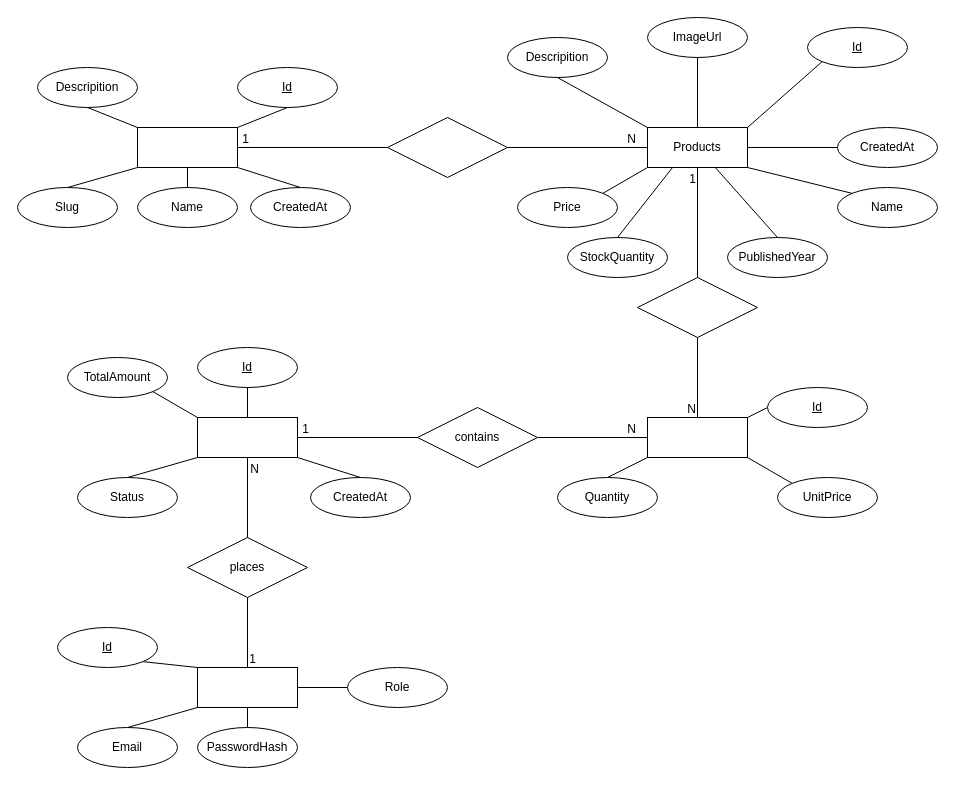
Image size: 955x785. Some labels were removed from this diagram. The shapes that lost their labels are listed below. From the top down, each one's box as (x1, y1, x2, y2) in pixels, then its label:
(136, 126, 238, 168): Category
(386, 116, 508, 178): has
(636, 276, 758, 338): refers_to
(196, 416, 298, 458): Order
(646, 416, 748, 458): OrderItem
(196, 666, 298, 708): User
